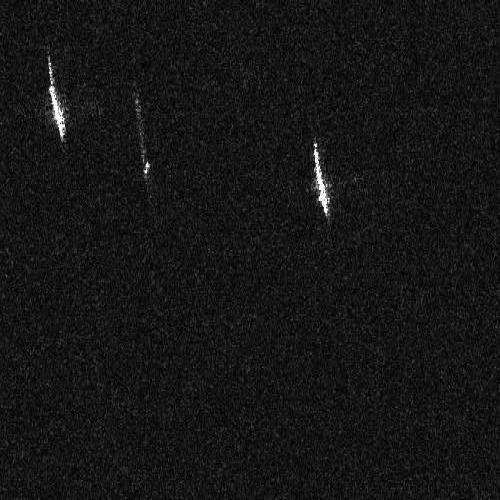ship: (46, 54, 68, 142), (312, 139, 330, 218), (135, 99, 151, 175)
